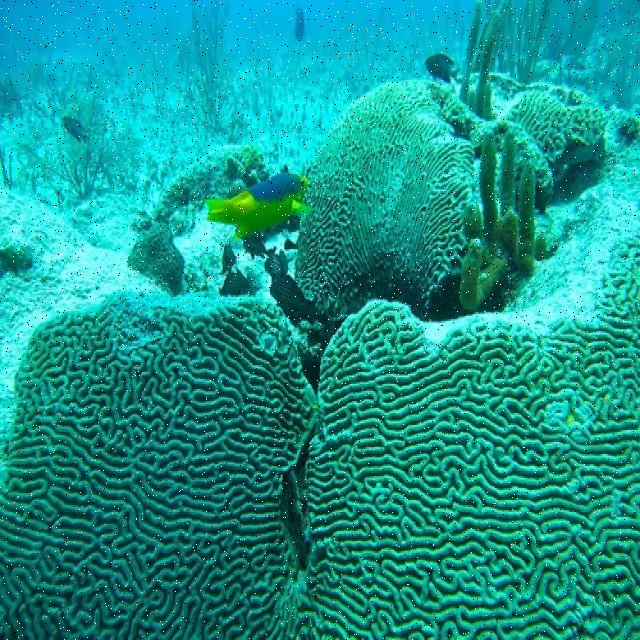fish: (205, 161, 313, 243)
reefs: (0, 235, 639, 638), (294, 3, 607, 320)
